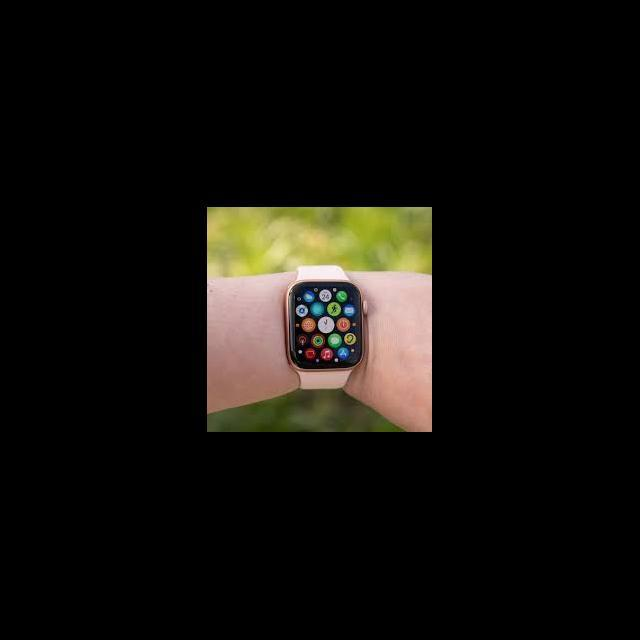watch: (272, 245, 372, 403)
